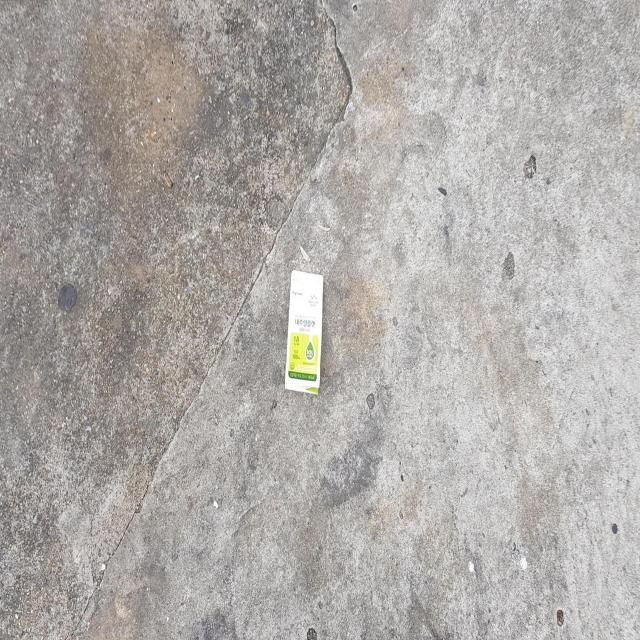paperpack: (285, 270, 324, 394)
